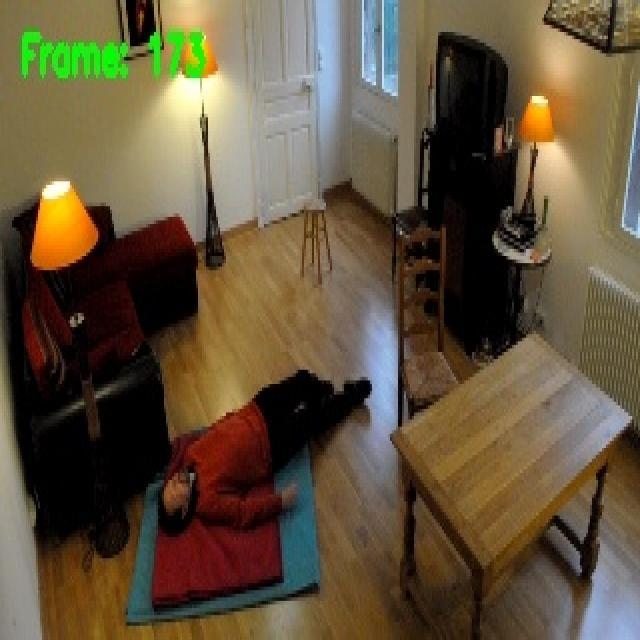fall: (160, 363, 372, 535)
